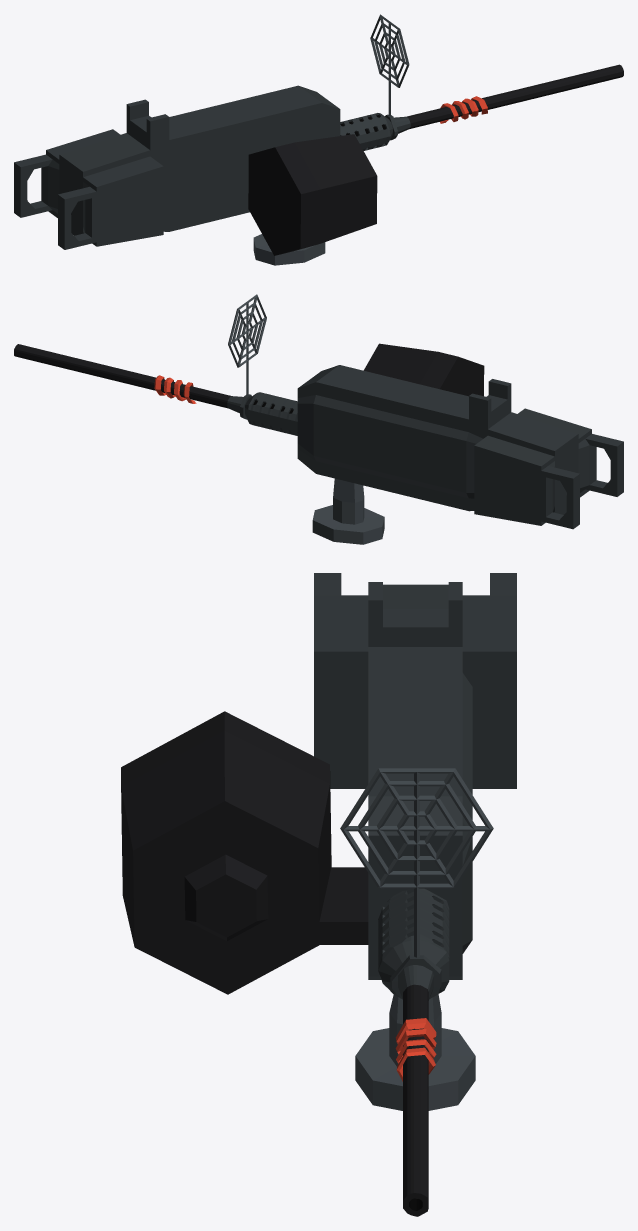
The model's file is SM_Gunmachine_02.fbx.
3 renders of one model, top to bottom at view 1: azimuth 30°, elevation 25°; view 2: azimuth 150°, elevation 25°; view 3: azimuth 270°, elevation 25°, orthographic. The views are drawn at different scales.
Parts seen in each view (by area): view 1: SM_Gunmachine_02; view 2: SM_Gunmachine_02; view 3: SM_Gunmachine_02.
Boxes of the visible parts, box(x1,y1,x2,y2) form: SM_Gunmachine_02: box(14, 14, 623, 265); SM_Gunmachine_02: box(14, 294, 623, 544); SM_Gunmachine_02: box(121, 573, 516, 1216).
Bounding box in the file's own units: 93.45 × 31.55 × 27.55.
